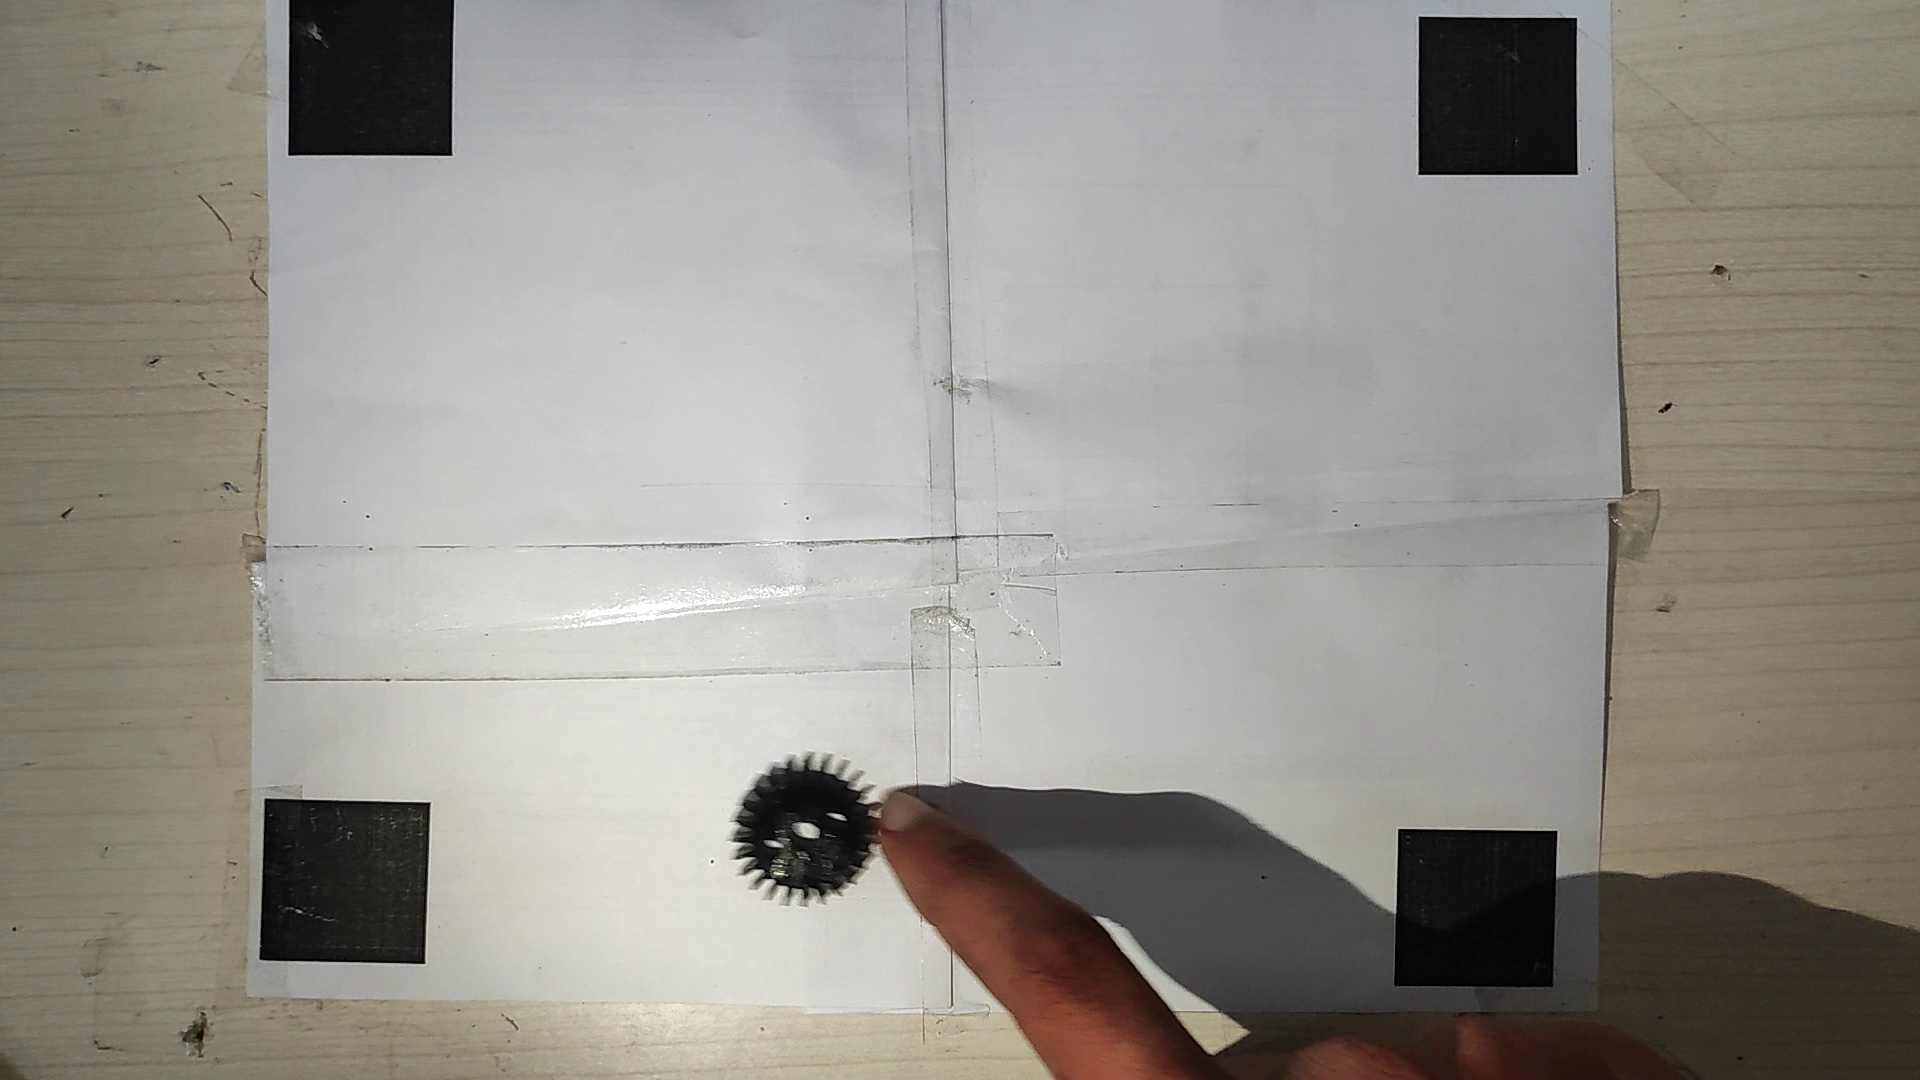Gear: (723, 745, 882, 911)
